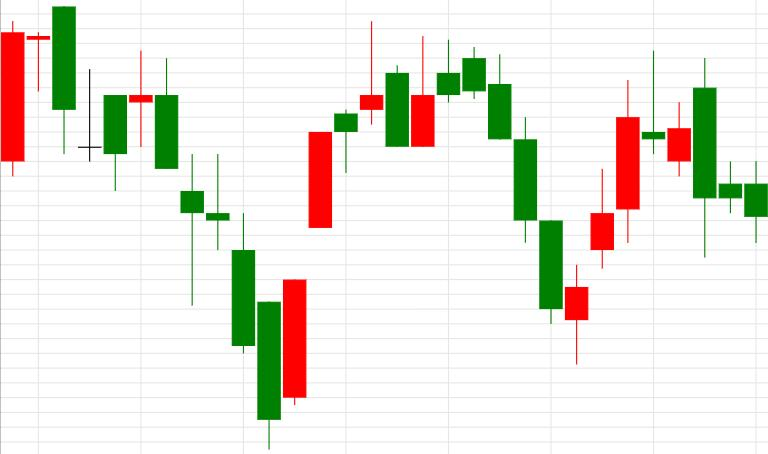three_black_crows_fall: (283, 21, 563, 406)
three_white_soldiers_rise: (463, 46, 639, 365)
